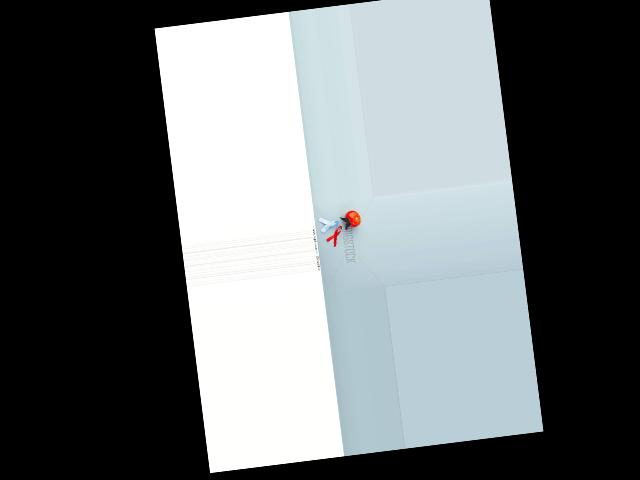tomato: (343, 209, 361, 228)
